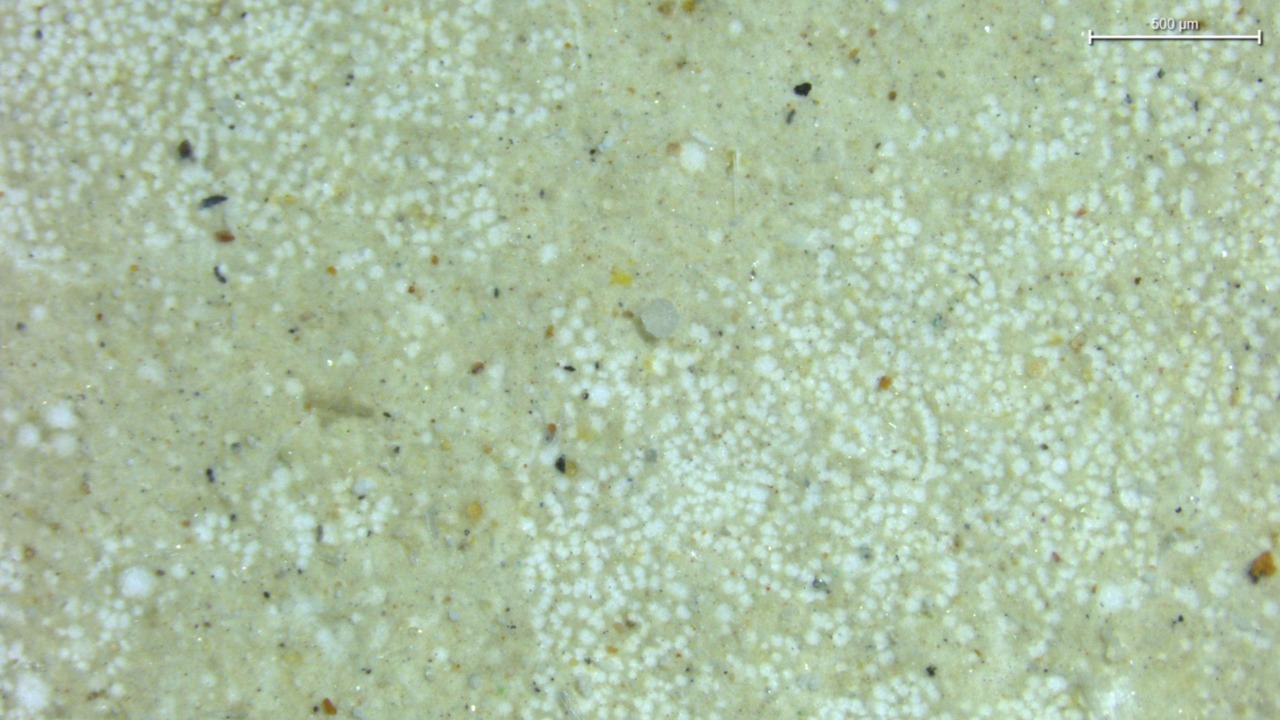microplastic_fragment: (640, 298, 680, 338)
